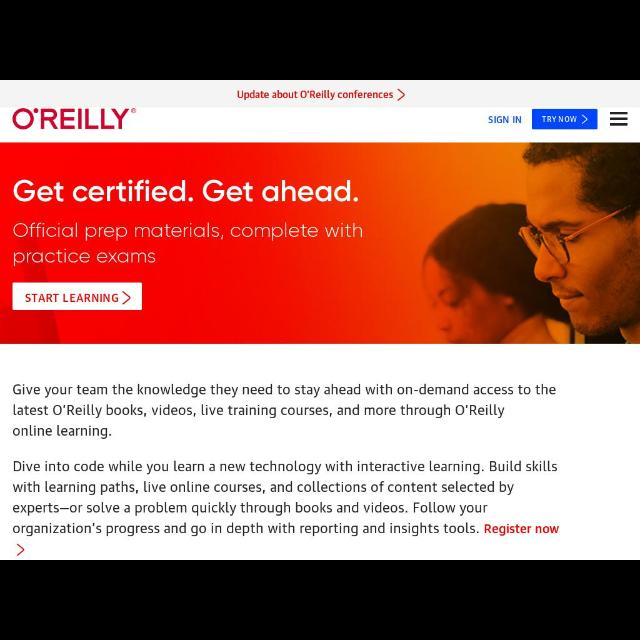icon: (610, 110, 630, 126), (395, 88, 407, 100), (14, 542, 24, 556)
image: (1, 144, 639, 342), (12, 107, 136, 131)
text: (7, 457, 561, 517), (13, 384, 561, 418), (12, 174, 358, 208), (16, 519, 560, 537), (11, 222, 362, 242), (10, 247, 156, 270), (232, 86, 392, 102), (10, 426, 114, 442), (487, 114, 521, 126)
textbutton: (10, 282, 142, 312), (532, 108, 596, 128)
toolbar: (1, 103, 639, 139)
